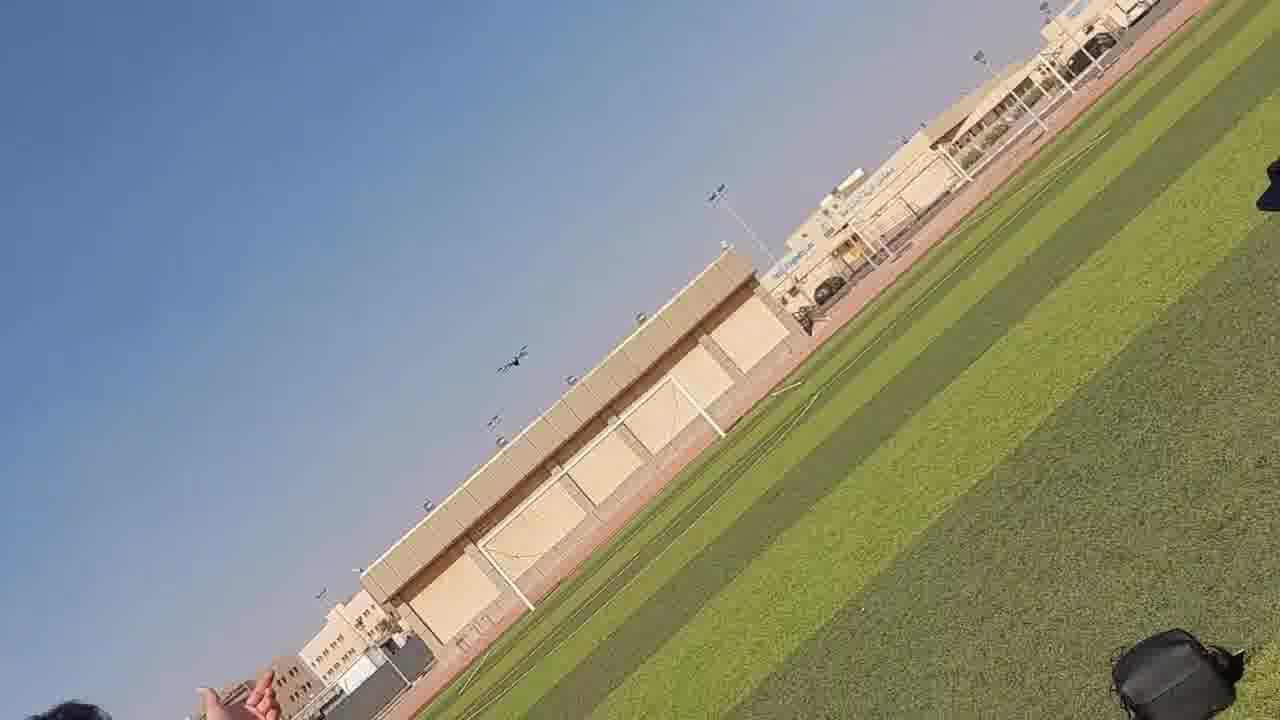drone: (476, 335, 541, 388)
